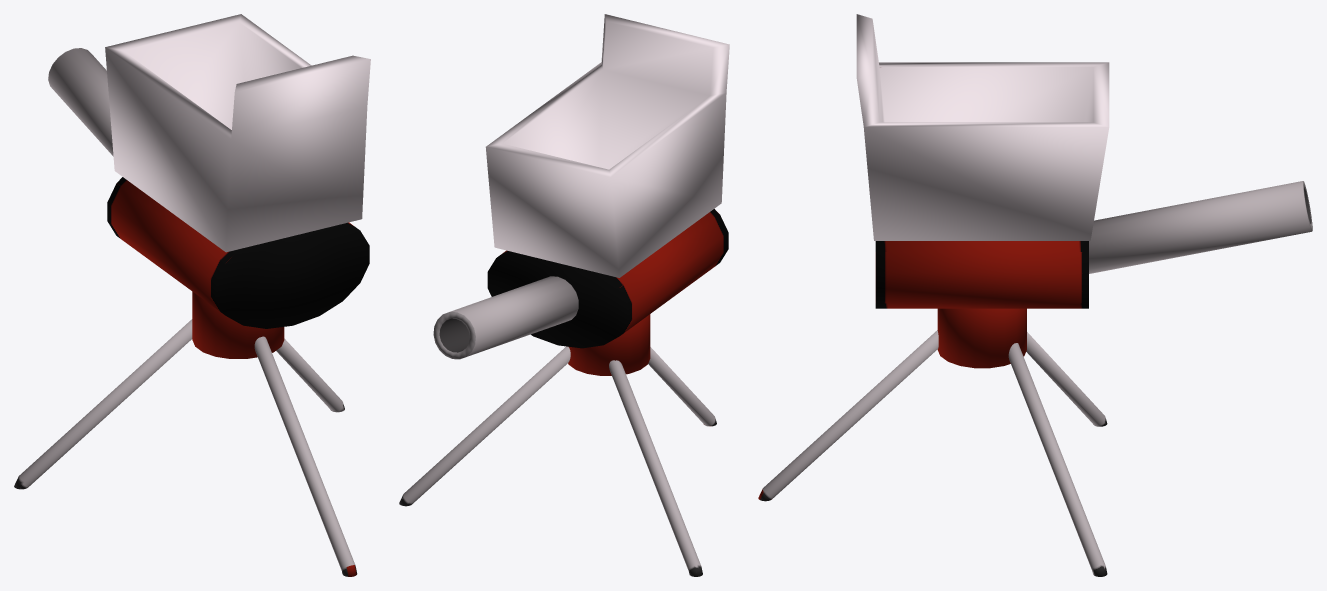
The model's file is ballShooter.fbx.
3 renders of one model, left to right at view 1: azimuth 30°, elevation 25°; view 2: azimuth 150°, elevation 25°; view 3: azimuth 270°, elevation 25°, orthographic. The views are drawn at different scales.
Parts seen in each view (by area): view 1: ballShooter; view 2: ballShooter; view 3: ballShooter.
Boxes of the visible parts, left/top/right/bottom form: ballShooter: left=14, top=14, right=370, bottom=576; ballShooter: left=399, top=14, right=729, bottom=576; ballShooter: left=758, top=14, right=1312, bottom=576.
Size of the model in its own units: 6.34 by 8.55 by 9.51.
